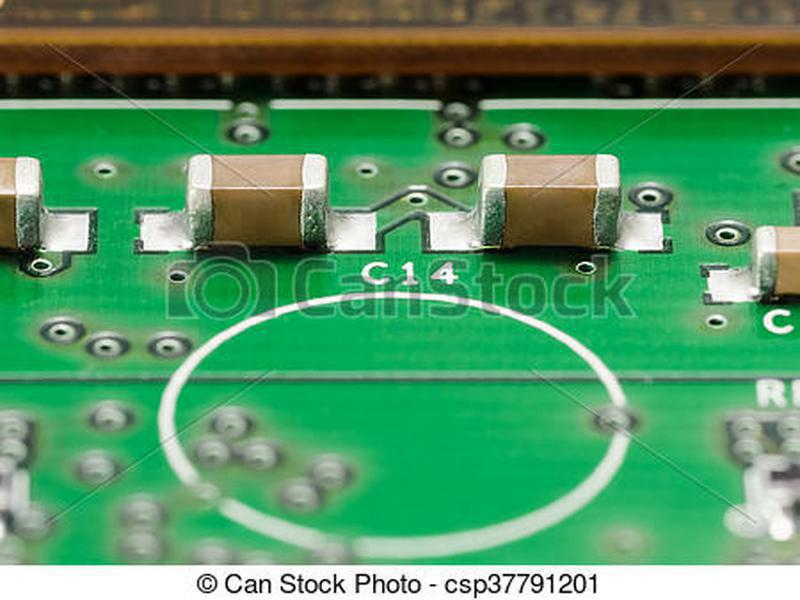SMD capacitor: (183, 146, 337, 256), (473, 143, 629, 250)
